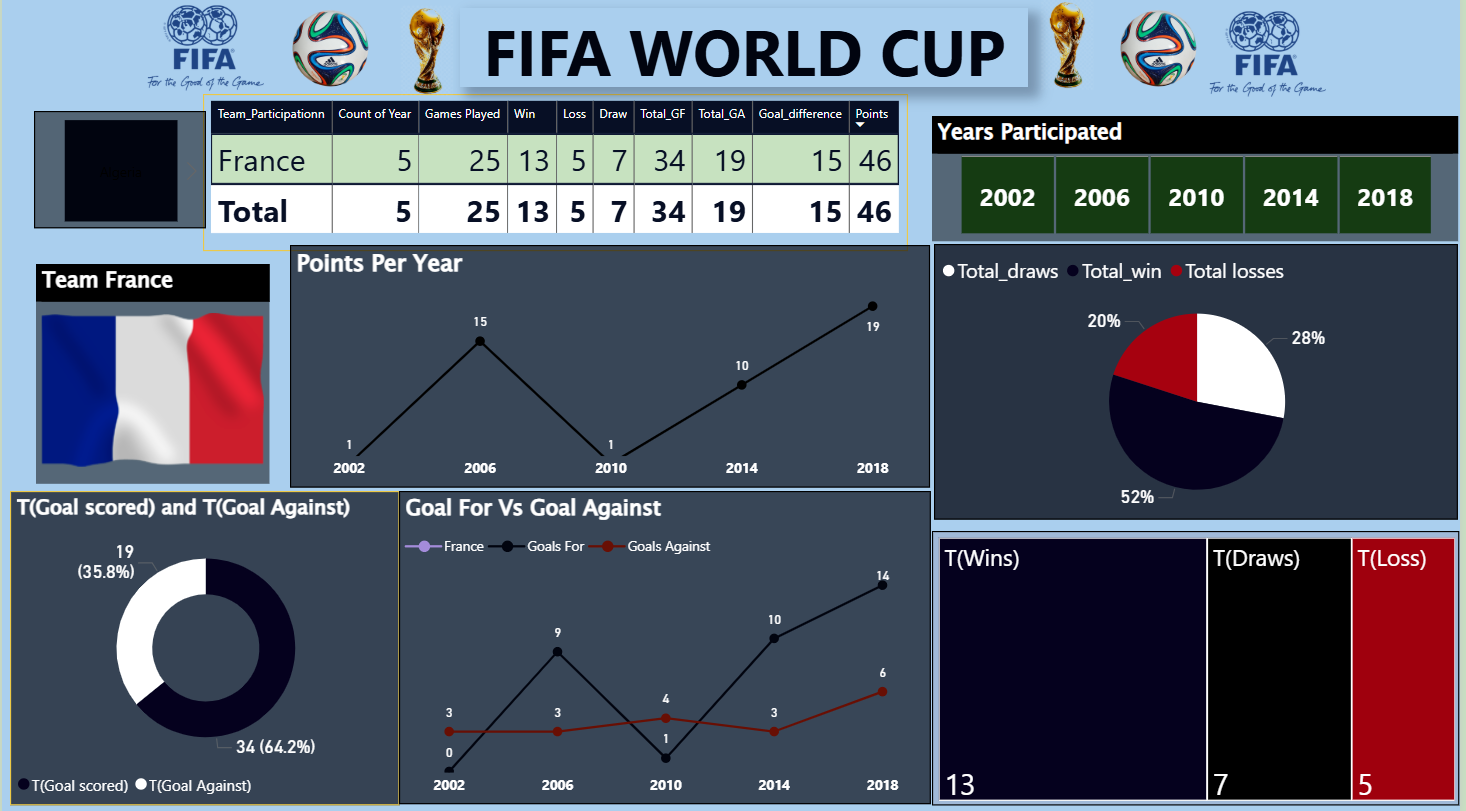

What the dashboard file says about the page in this screenshot:
{"tool":"powerbi","page":{"name":"Team France ","canvas":[1280,720],"ordinal":1},"visuals":[{"type":"donutChart","fields":{"Y":["DAX1.Total_GF","DAX1.Total_GA"]},"box":[6.6,436,341.9,275.8],"z":0},{"type":"treemap","fields":{"Values":["DAX1.Total_win","DAX1.T(Draws)","DAX1.Total losses"]},"box":[816.8,471.4,463.2,240.6],"z":1000},{"type":"lineChart","title":"Goal For Vs Goal Against","fields":{"Category":["WC_02-20.Year"],"Y":["CountNonNull(Team.Team_Participationn)"],"Y2":["Sum(WC_02-20.Goals For)","Sum(WC_02-20.Goals Against)"]},"box":[348.2,436.3,466.6,275.3],"z":2000},{"type":"tableEx","fields":{"Values":["Team.Team_Participationn","CountNonNull(WC_02-20.Year)","Sum(WC_02-20.Games Played)","Sum(WC_02-20.Win)","Sum(WC_02-20.Loss)","Sum(WC_02-20.Draw)","DAX1.Total_GF","DAX1.Total_GA","DAX1.Goal_difference","Sum(WC_02-20.Points)"]},"box":[176.2,88.1,619.4,137.6],"z":3000},{"type":"textbox","title":"FIFA WORLD CUP","box":[401.7,12.7,499.3,69.3],"z":4000},{"type":"image","box":[817.6,0,236.2,89.1],"z":5000},{"type":"image","box":[236.2,5.7,273,89.1],"z":6000},{"type":"image","box":[123.1,0,111.7,94.8],"z":7000},{"type":"image","box":[1055.2,5.7,111.7,94.8],"z":8000},{"type":"image","box":[239.1,0,99,94.8],"z":9000},{"type":"image","box":[966.1,0,99,94.8],"z":10000},{"type":"slicer","fields":{"Values":["Team.Team_Participationn"]},"box":[27.8,103.1,150.6,103.1],"z":11000},{"type":"lineChart","title":"Points Per Year","fields":{"Category":["WC_02-20.Year"],"Y":["CountNonNull(Team.Team_Participationn)"],"Y2":["Sum(WC_02-20.Points)"]},"box":[253.2,220.2,561.5,213.3],"z":12000},{"type":"image","title":"Team France","box":[29.5,237.3,204.6,193.1],"z":13000},{"type":"pieChart","fields":{"Y":["DAX1.T(Draws)","DAX1.Total_win","DAX1.Total losses"]},"box":[818.4,219.3,459.9,242.3],"z":14000},{"type":"slicer","title":"Years Participated","fields":{"Values":["WC_02-20.Year"]},"box":[816.2,107.4,462.5,110.1],"z":15000}]}

Visuals, with their boxes in screenshot pixels (x1, y1, x2, y2), scaled from the page's 1280x720 canvas onto the 1466x811 screenshot:
donutChart - DAX1.Total_GF x DAX1.Total_GA: 8,491,399,802
treemap - DAX1.Total_win x DAX1.T(Draws): 935,531,1465,802
"Goal For Vs Goal Against" lineChart: 399,491,933,802
tableEx - Team.Team_Participationn x CountNonNull(WC_02-20.Year): 202,99,911,254
"FIFA WORLD CUP" textbox: 460,14,1032,92
image: 936,0,1207,100
image: 271,6,583,107
image: 141,0,269,107
image: 1209,6,1336,113
image: 274,0,387,107
image: 1106,0,1220,107
slicer - Team.Team_Participationn: 32,116,204,232
"Points Per Year" lineChart: 290,248,933,488
"Team France" image: 34,267,268,485
pieChart - DAX1.T(Draws) x DAX1.Total_win: 937,247,1464,520
"Years Participated" slicer: 935,121,1465,245
